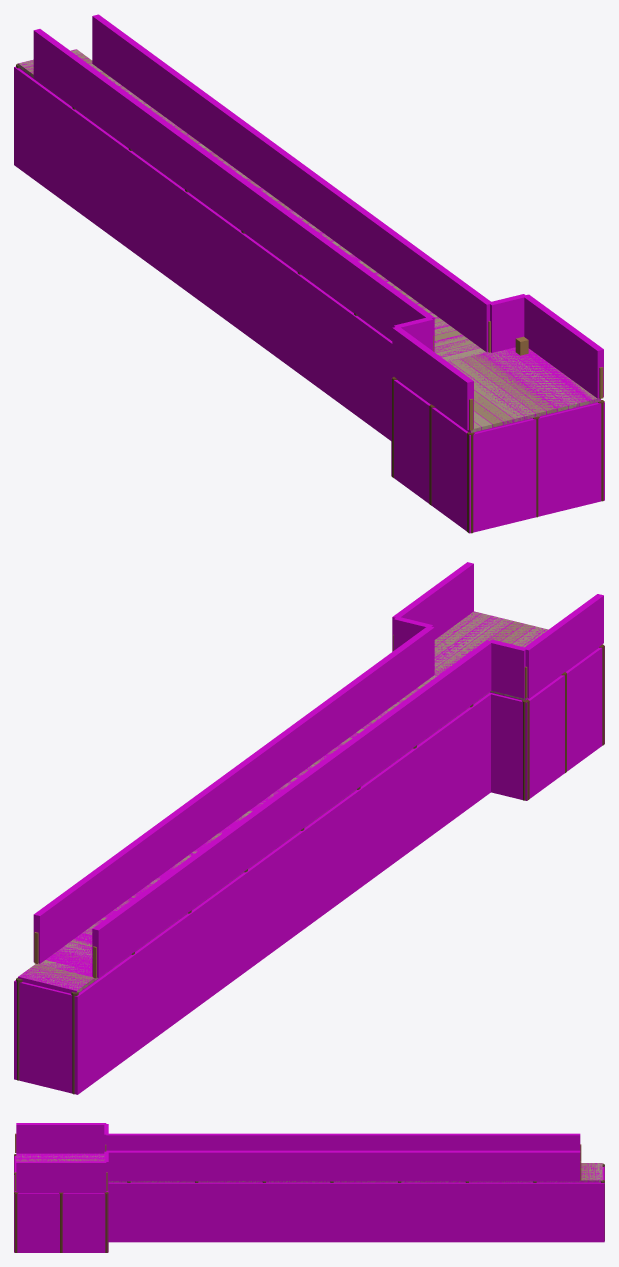
File: boardwalk.glb
The picture shows the model from 3 angles, top to bottom: view 1: azimuth 30°, elevation 25°; view 2: azimuth 150°, elevation 25°; view 3: azimuth 270°, elevation 25°; orthographic projection. The views are drawn at different scales.
Parts seen in each view (by area): view 1: COLP_boardwalk, boardwalk, COL_boardwalk; view 2: COLP_boardwalk, boardwalk, COL_boardwalk; view 3: COLP_boardwalk, boardwalk, COL_boardwalk.
Part boxes in pixels (box(x1,y1,x2,y2)): COLP_boardwalk: box(14, 14, 604, 533); boardwalk: box(16, 49, 604, 533); COL_boardwalk: box(18, 49, 600, 432); COLP_boardwalk: box(14, 562, 604, 1094); boardwalk: box(16, 611, 604, 1094); COL_boardwalk: box(18, 611, 600, 993); COLP_boardwalk: box(14, 1123, 604, 1252); boardwalk: box(14, 1133, 604, 1252); COL_boardwalk: box(16, 1153, 602, 1193).
Bounding box in the file's own units: 4.2 × 4.4 × 26.2.
